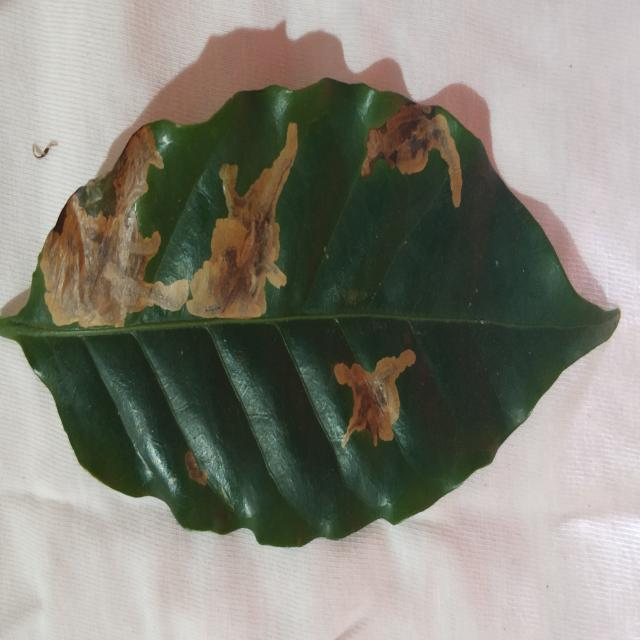Plaga-Minador: (15, 79, 621, 551)
